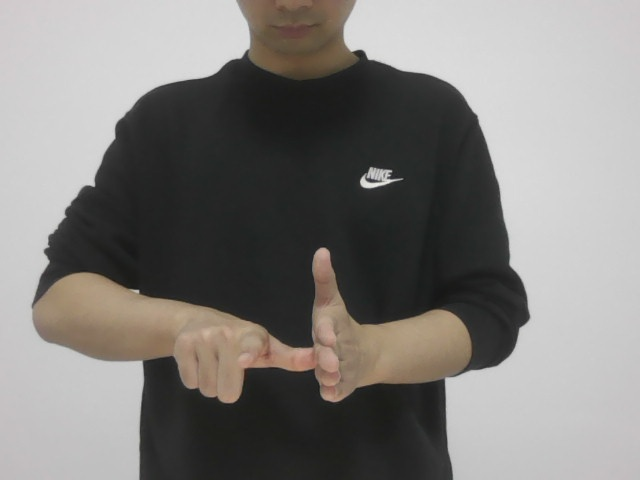time: (173, 234, 380, 417)
